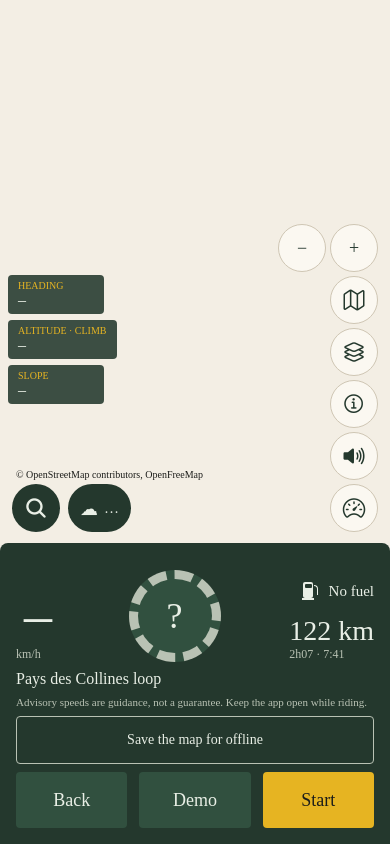
Test: no station along the route says so on the chip and on the card
Click the button with test id "fuel-chip" at (337, 591), box [301,567,374,615]
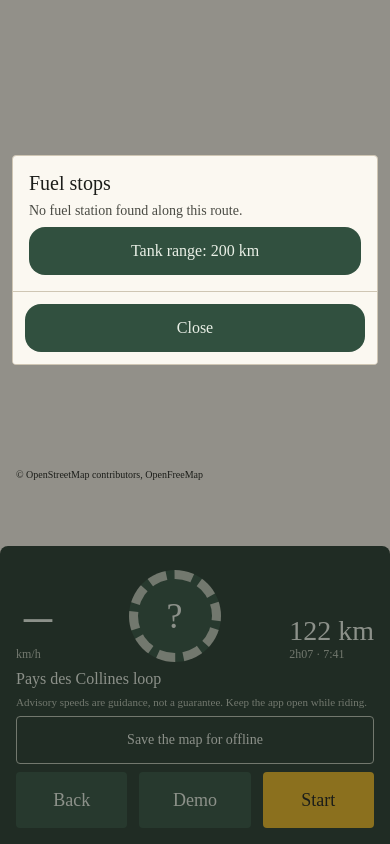
expect the text "No fuel station found along this route." is shown: met, box [29,203,242,218]
